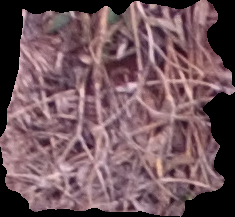soil: (1, 1, 234, 216)
